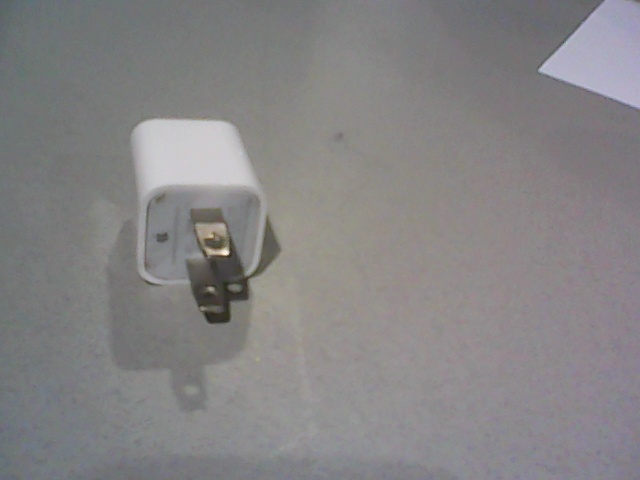charger: (128, 118, 268, 327)
